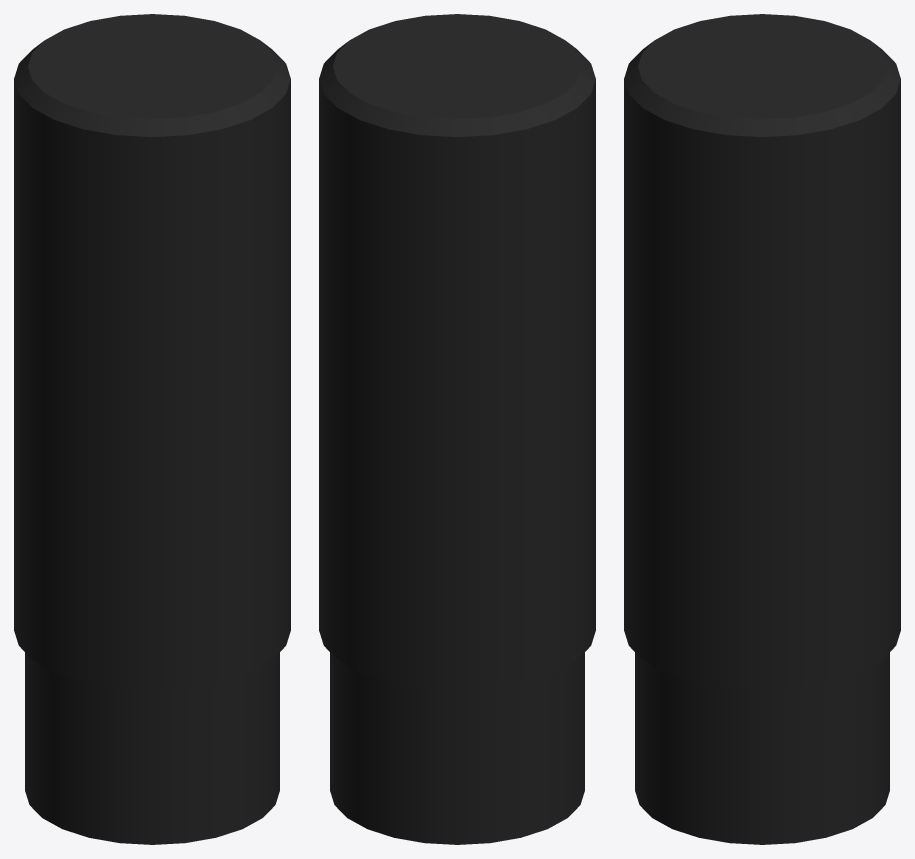
The model's file is Arrow_SRB_0_1.obj.
3 renders of one model, left to right at view 1: azimuth 30°, elevation 25°; view 2: azimuth 150°, elevation 25°; view 3: azimuth 270°, elevation 25°, orthographic.
Parts seen in each view (by area): view 1: Arrow_SRB_0_1; view 2: Arrow_SRB_0_1; view 3: Arrow_SRB_0_1.
Part boxes in pixels (left/top/right/bottom): Arrow_SRB_0_1: left=14, top=14, right=290, bottom=844; Arrow_SRB_0_1: left=319, top=14, right=595, bottom=844; Arrow_SRB_0_1: left=624, top=14, right=900, bottom=844.
Size of the model in its own units: 0.625 by 1.85 by 0.625.
